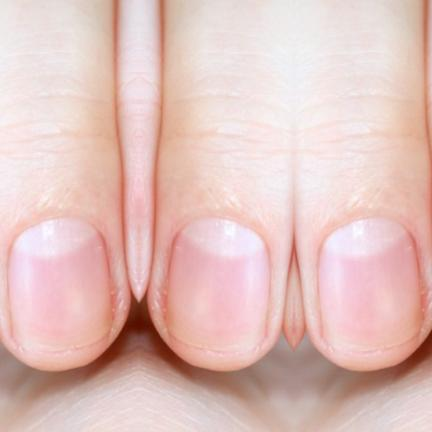Nail: (165, 218, 269, 350), (7, 218, 111, 350), (318, 218, 422, 350)
